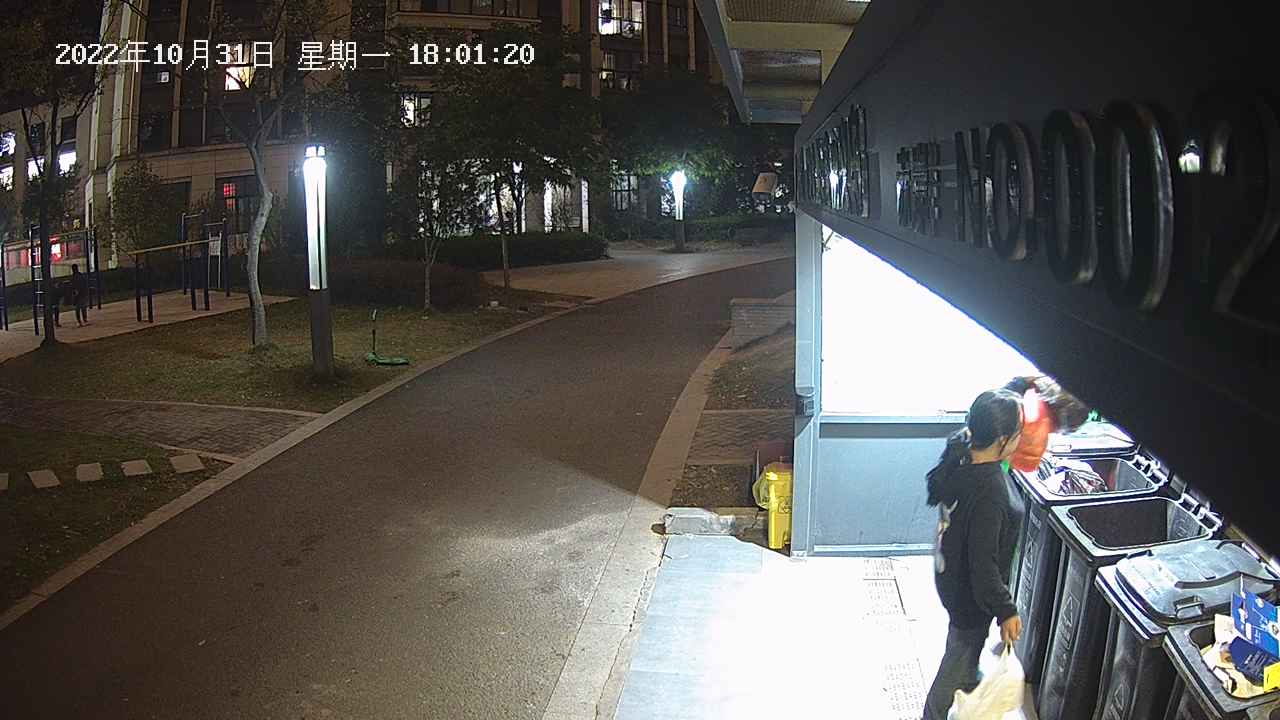garbage-bag: (1009, 377, 1093, 472), (944, 638, 1028, 720)
person: (920, 375, 1047, 719)
